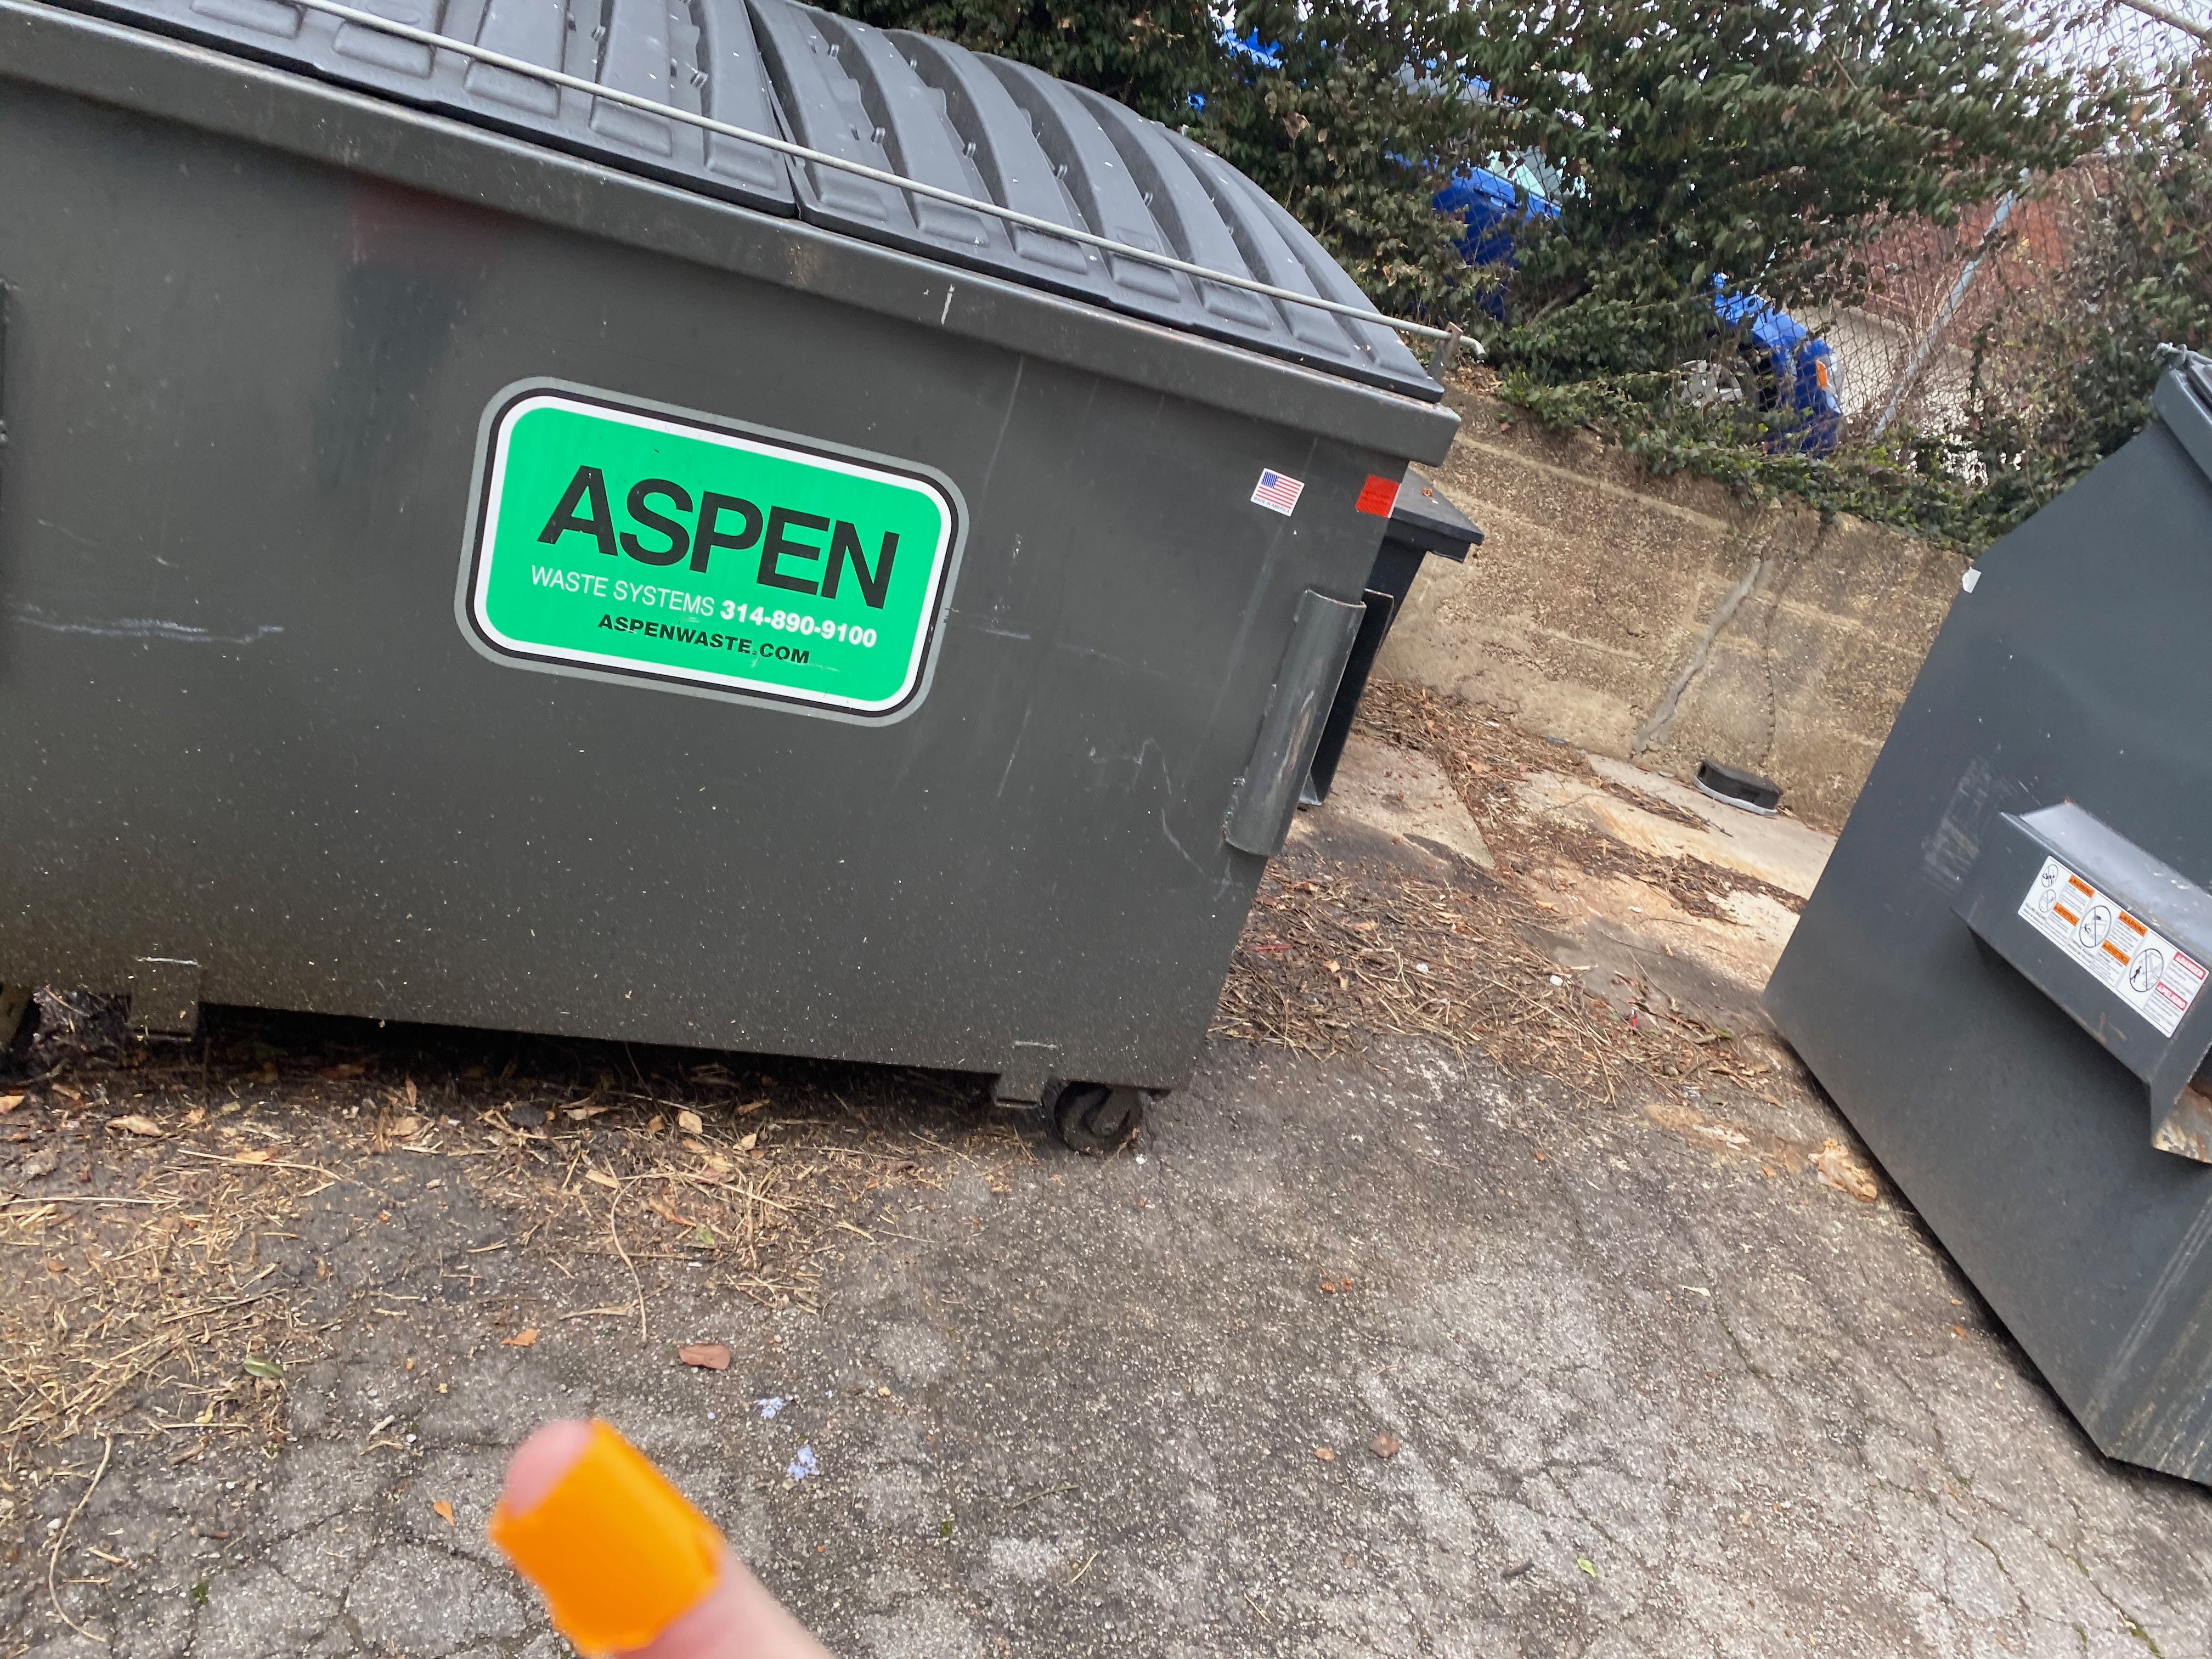fingertip: (432, 1405, 838, 1659)
